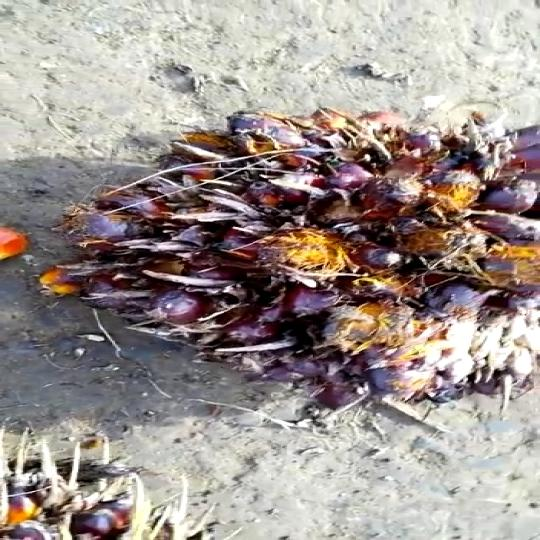masak: (35, 107, 540, 436)
